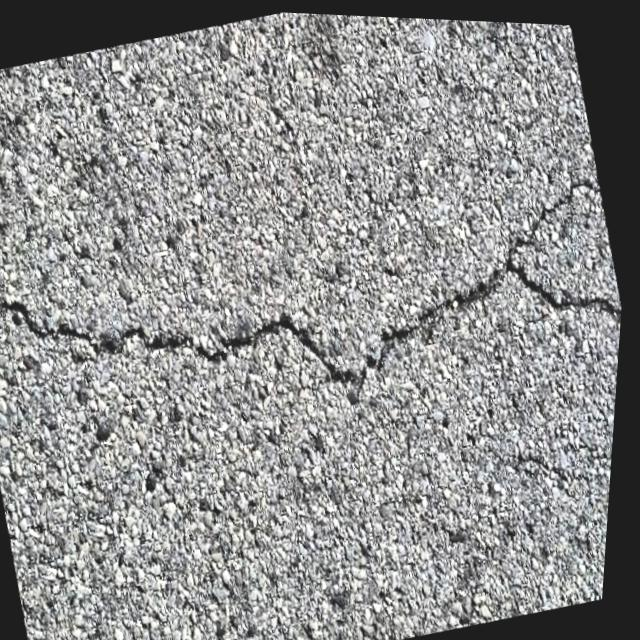cracks: (0, 164, 625, 480)
